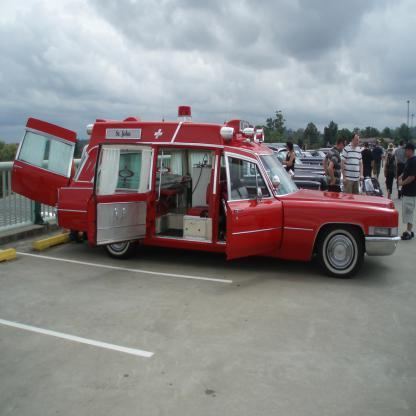Ambulance - v1 Ambulance last generate: (8, 104, 402, 277)
